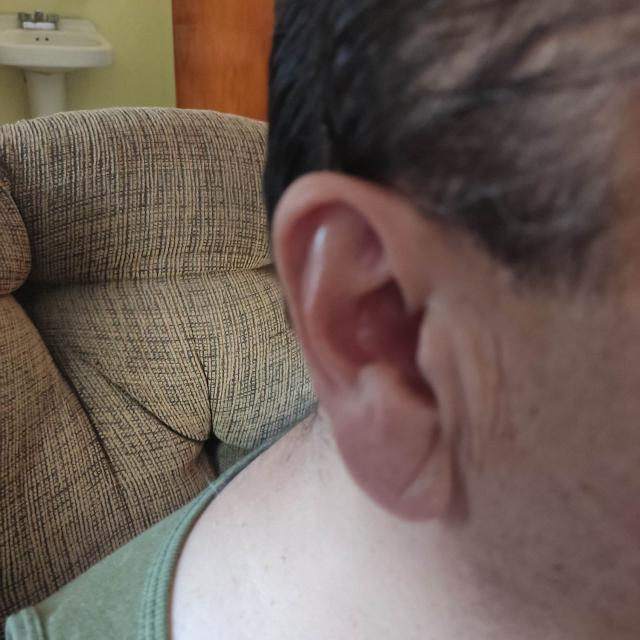ear: (272, 172, 457, 520)
